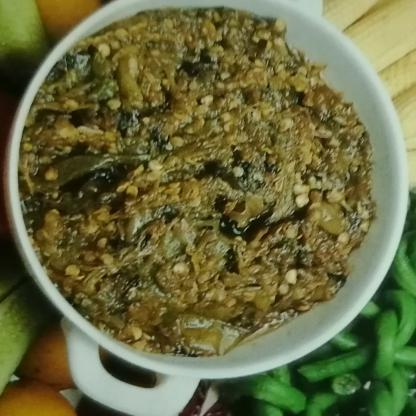Namprig: (14, 0, 406, 382)
